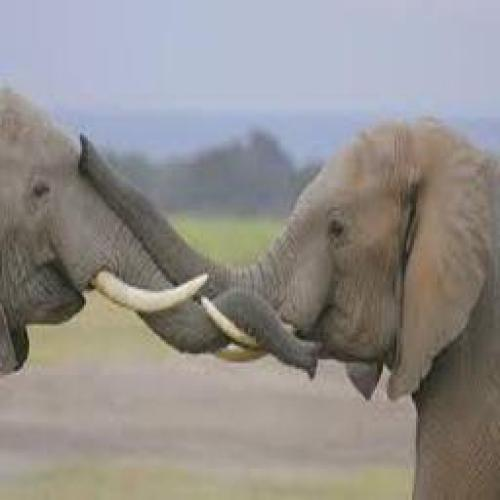african_elephant-endangered: (74, 118, 500, 500), (0, 79, 319, 385)
